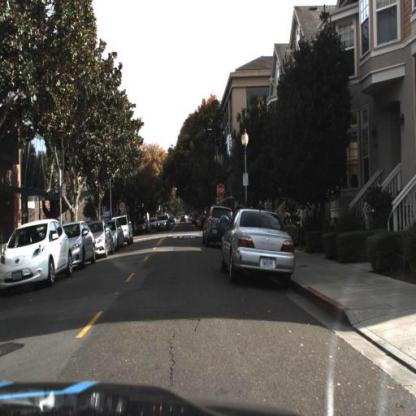car: (220, 208, 299, 284), (2, 217, 72, 290), (67, 218, 98, 273), (203, 204, 231, 246), (93, 219, 116, 259), (157, 215, 172, 231)
pedestrian: (258, 199, 267, 215)
